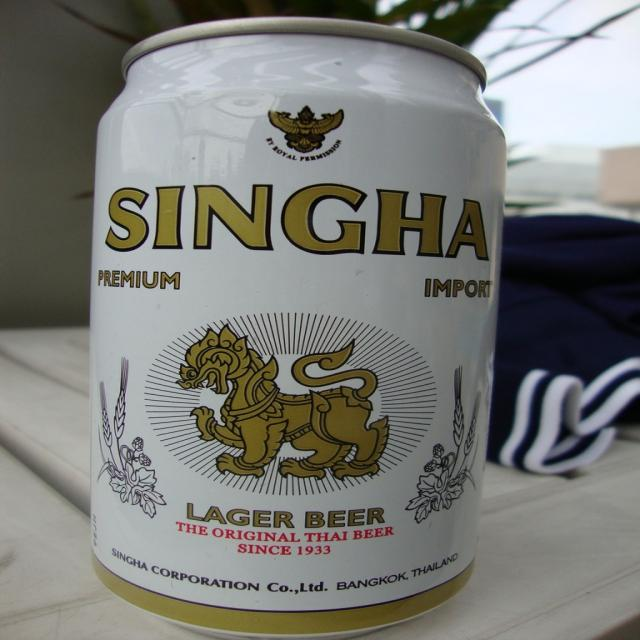singha: (98, 176, 504, 564)
